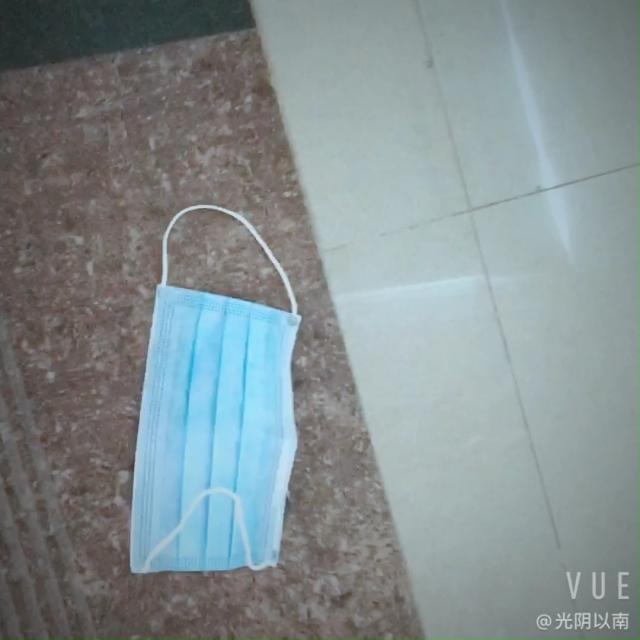non-organic waste: (115, 280, 314, 584)
